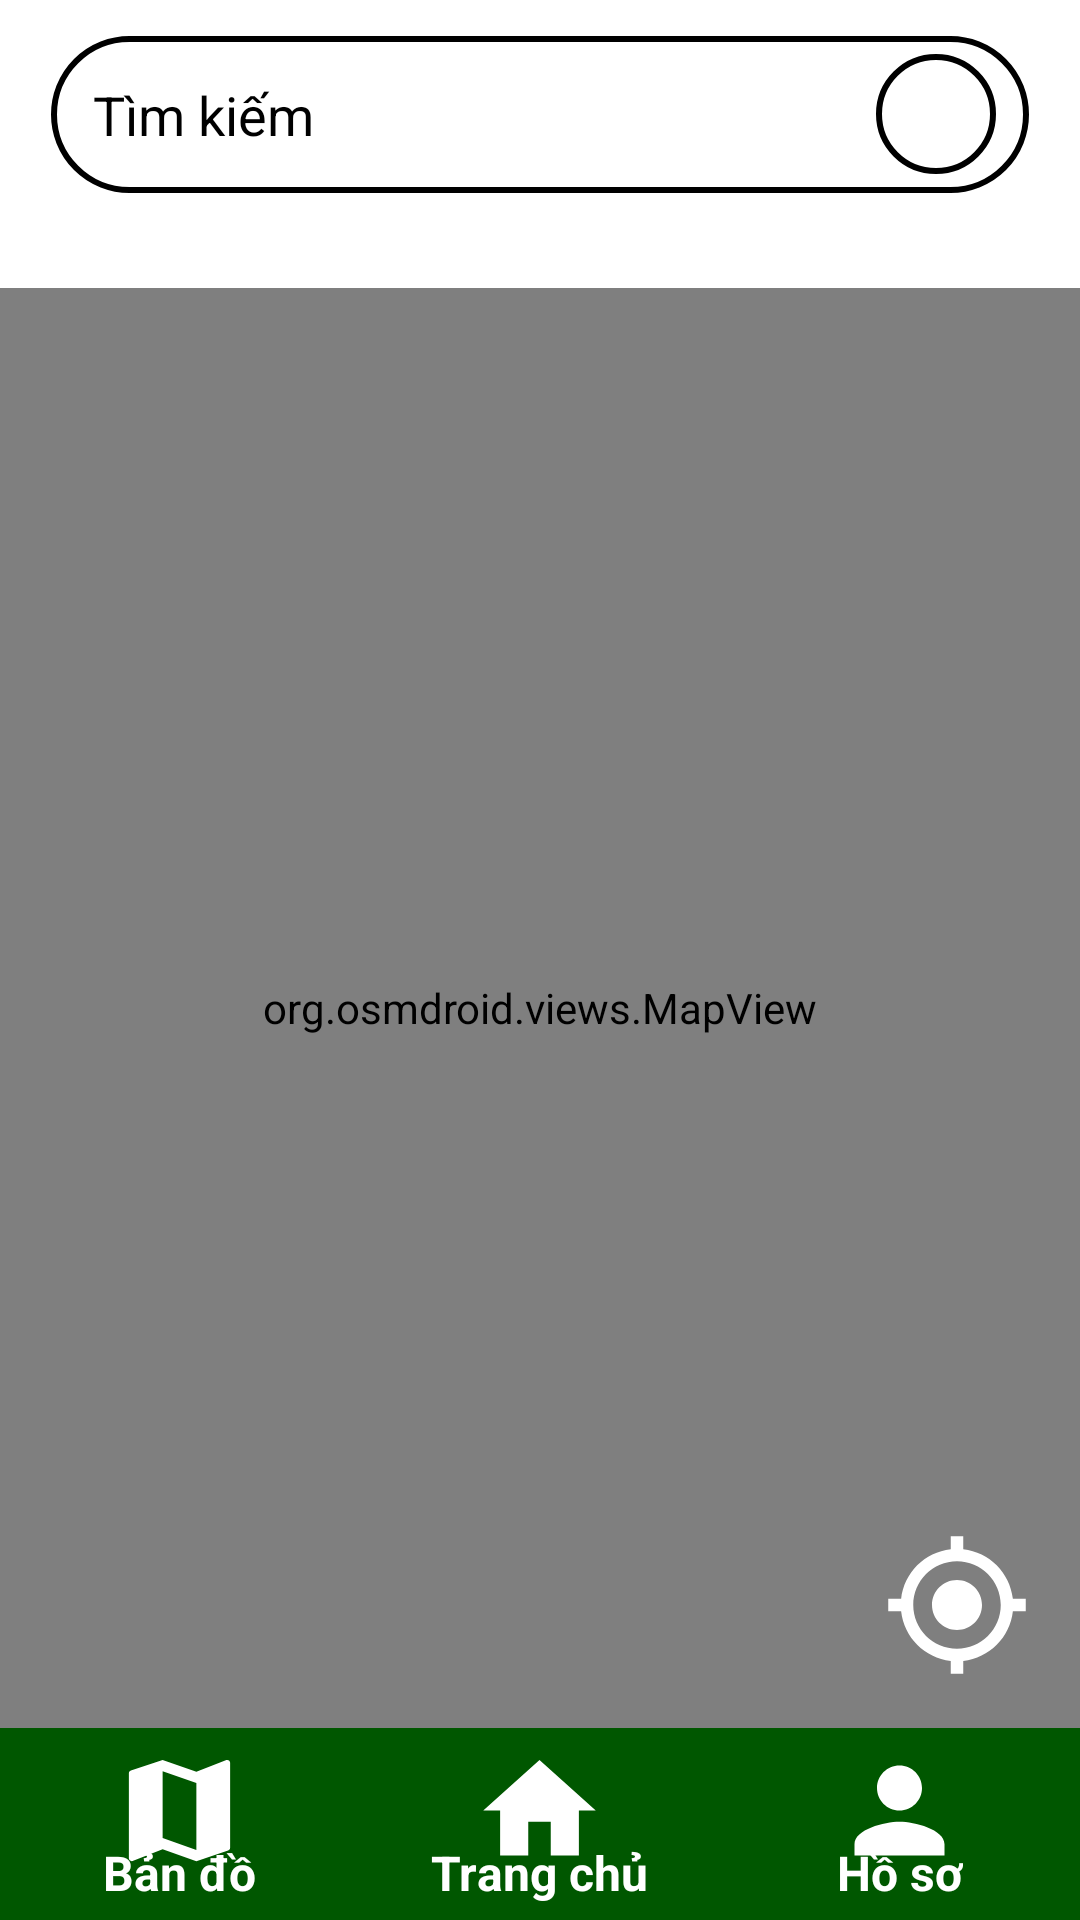

Where to tap for icons on this 1080px×1920px app screen, as [x,y]:
Vị trí của tôi: [957,1605]
